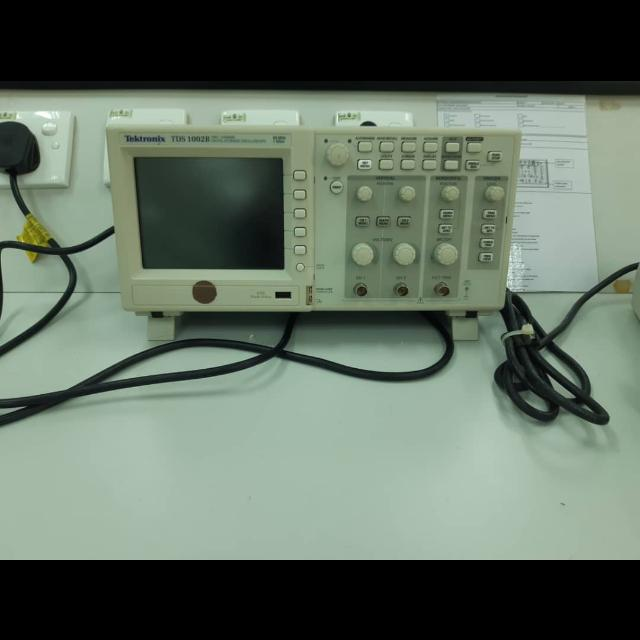Digital-Oscilloscope: (106, 119, 522, 339)
